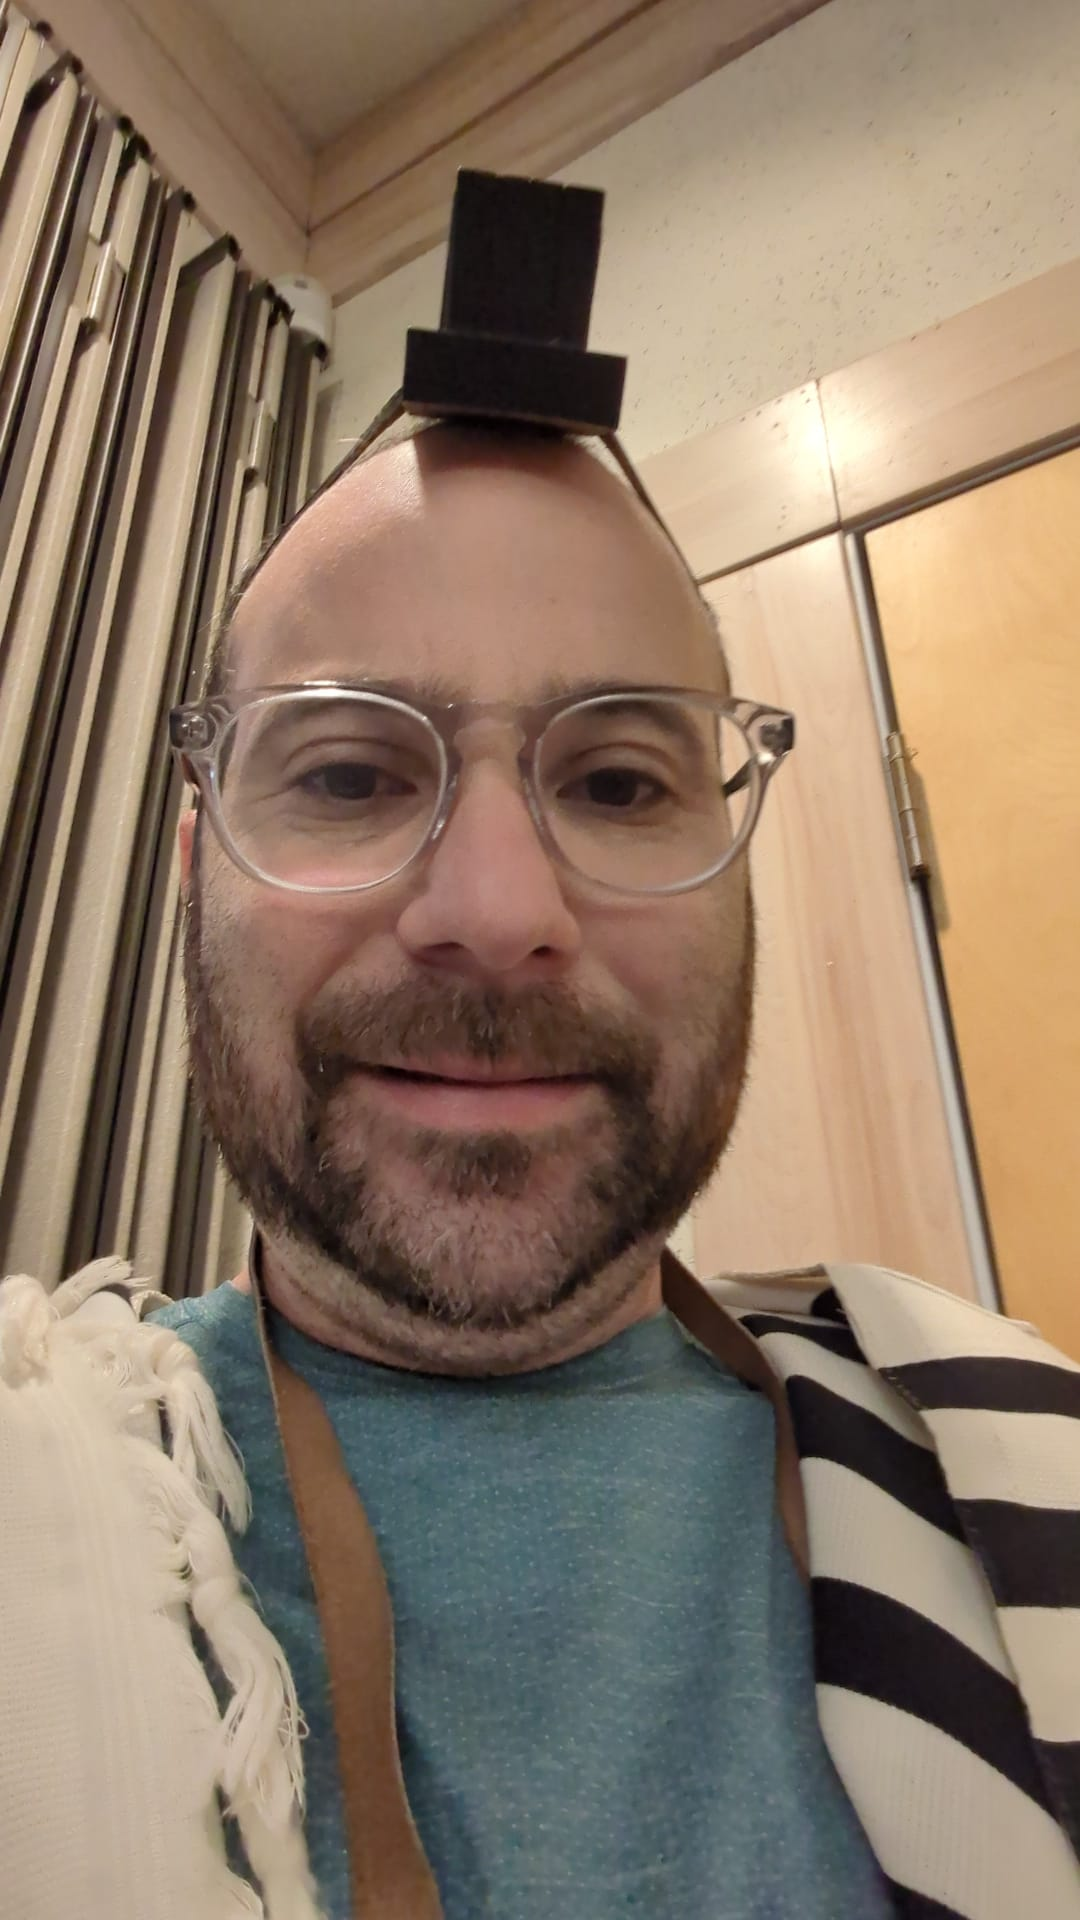tefillin: (400, 170, 629, 440)
